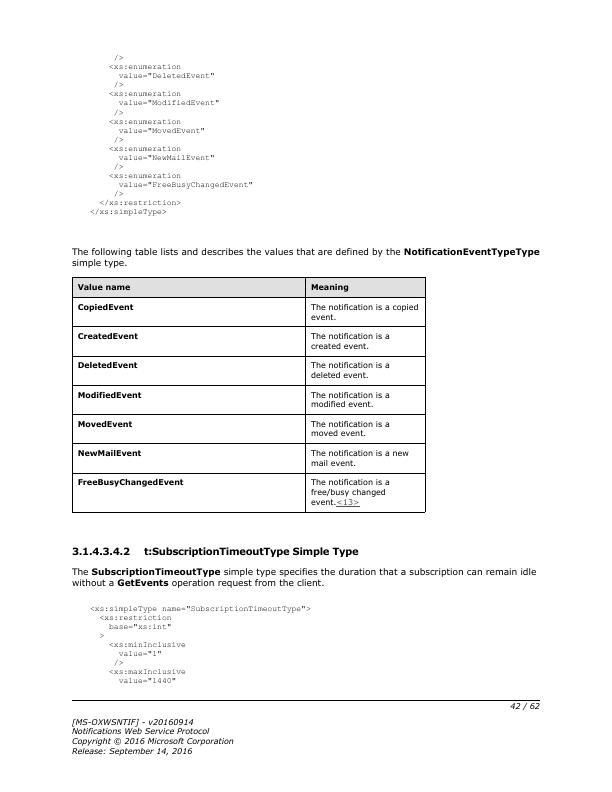table: (70, 275, 429, 515)
text: (88, 55, 255, 220), (88, 602, 312, 684), (67, 564, 538, 591), (70, 245, 540, 270), (68, 714, 234, 757), (68, 546, 360, 559)
